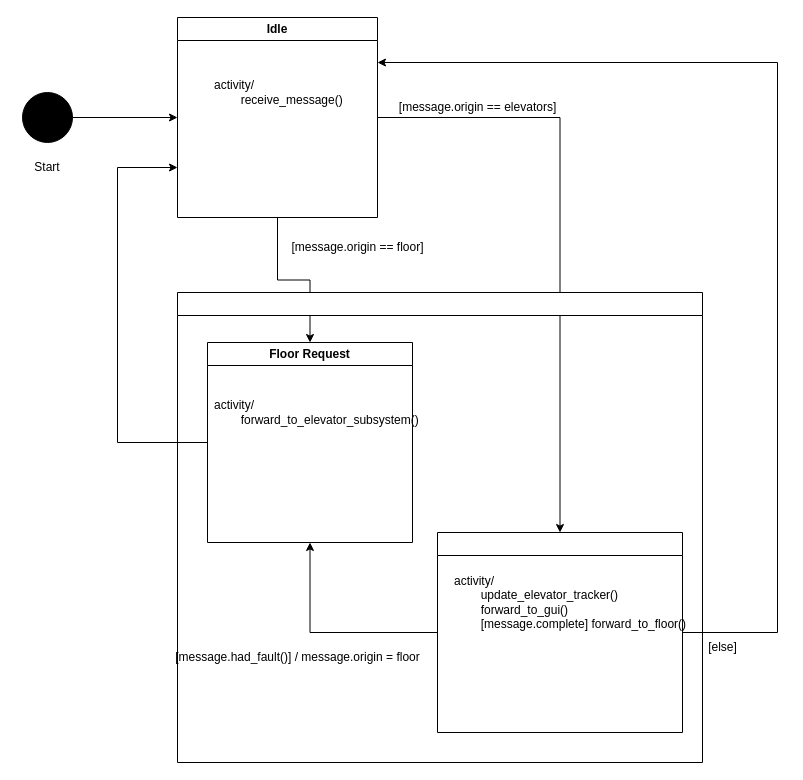
Image size: 803x780. Some labels were removed from this diagram. The shapes that lost their labels are listed below. From the top down, each one's box as (x1, y1, x2, y2) in pixels, then its label:
(176, 292, 702, 762): Thinking
(436, 532, 682, 732): Elevator Response
